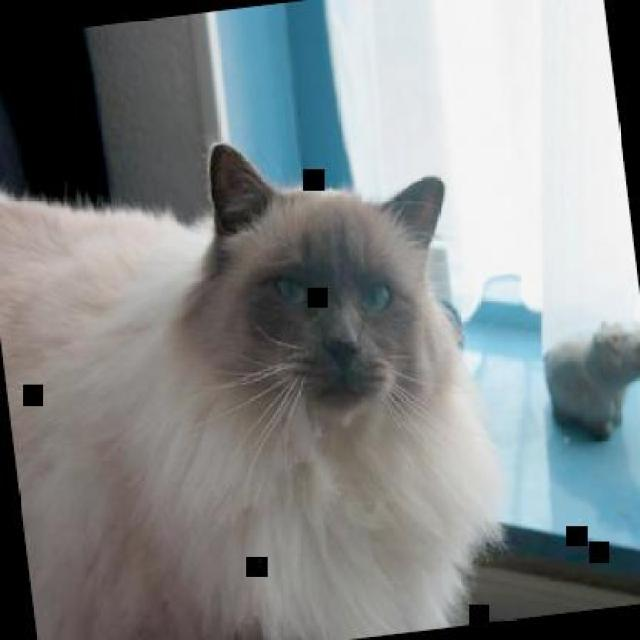cat: (0, 111, 520, 638)
